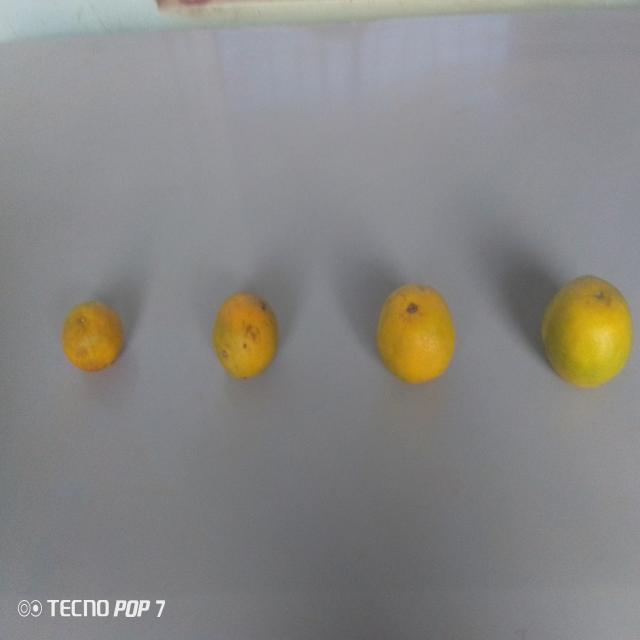Ripe orange: (536, 264, 634, 394), (372, 280, 457, 388), (208, 282, 284, 386), (57, 300, 127, 376)
